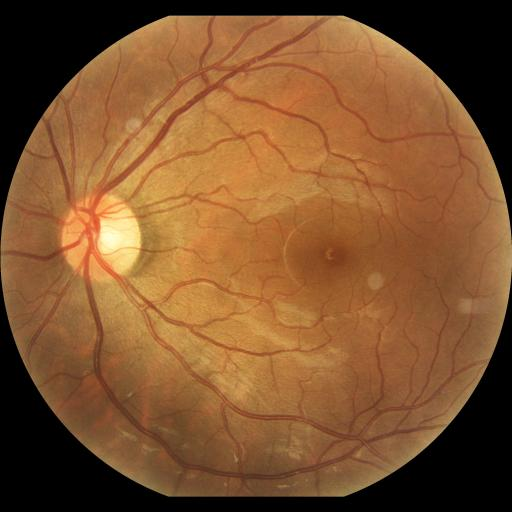Optic Cup: (91, 217, 125, 255)
Optic Disc: (62, 194, 141, 281)
